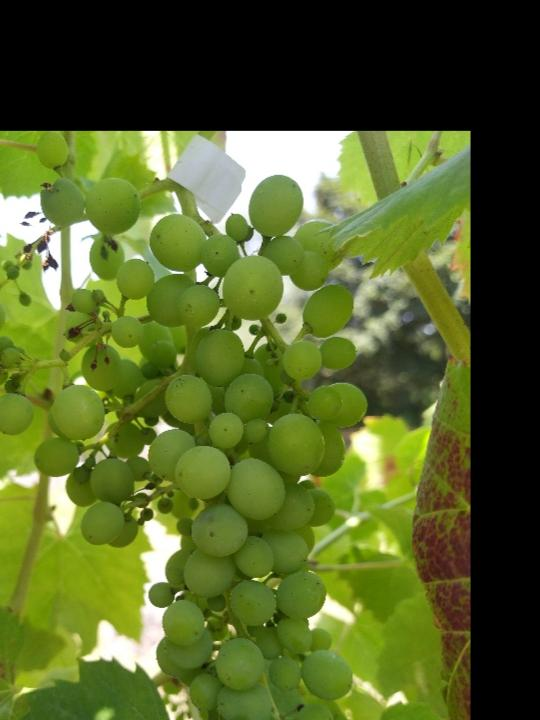grape: (0, 135, 382, 720)
